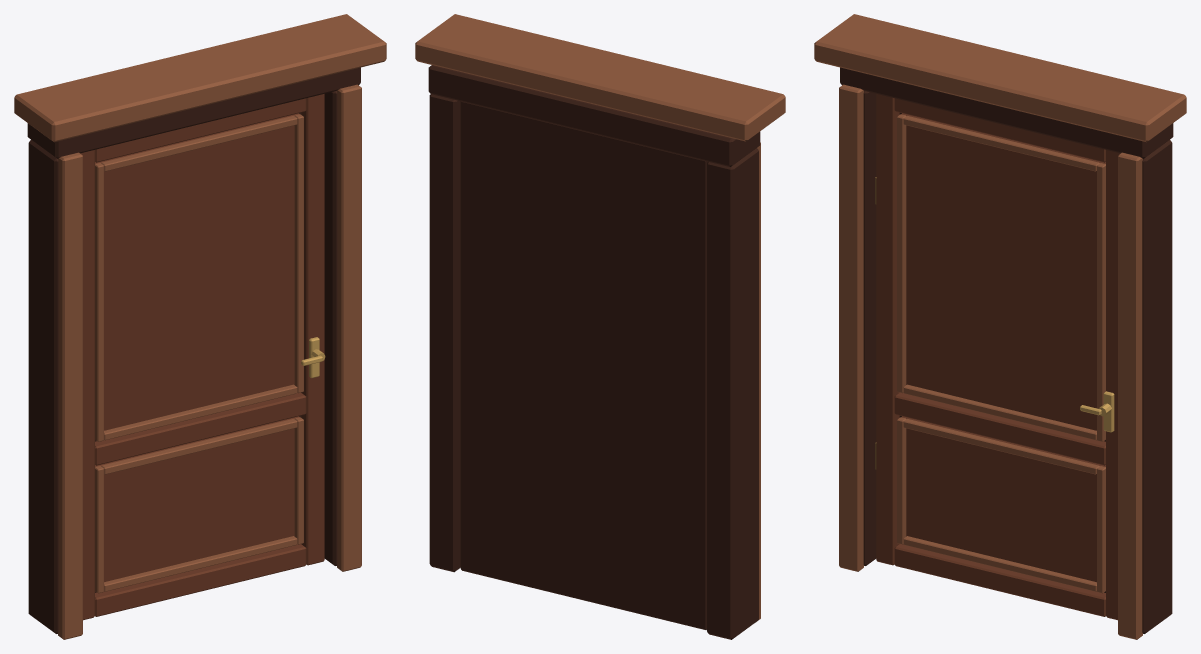
The model's file is door_16.glb.
3 renders of one model, left to right at view 1: azimuth 30°, elevation 25°; view 2: azimuth 150°, elevation 25°; view 3: azimuth 330°, elevation 25°, orthographic.
Visible parts, largest first — view 1: Panel_0_1_Field, Panel_0_0_Field, Cornice, Jamb__1, Jamb_moulding_1, Jamb_moulding__1, Leaf_stile_0_1, Jamb_1, Lintel, Leaf_stile_0__1, Leaf_crossrail_0_0_048, Leaf_crossrail_0_0_795 (+9 smaller); view 2: Leaf_0, Jamb__1, Cornice, Jamb_1, Lintel, Jamb_moulding__1; view 3: Panel_0_1_Field, Panel_0_0_Field, Cornice, Jamb_1, Jamb_moulding_1, Jamb_moulding__1, Leaf_stile_0__1, Jamb__1, Lintel, Leaf_stile_0_1, Leaf_crossrail_0_0_048, Leaf_crossrail_0_0_795 (+9 smaller).
Boxes of the visible parts, x1=… form: Panel_0_1_Field: x1=95, y1=113, x2=299, y2=430; Panel_0_0_Field: x1=95, y1=416, x2=299, y2=582; Cornice: x1=14, y1=14, x2=386, y2=142; Jamb__1: x1=28, y1=140, x2=58, y2=633; Jamb_moulding_1: x1=337, y1=84, x2=361, y2=571; Jamb_moulding__1: x1=58, y1=152, x2=82, y2=639; Leaf_stile_0_1: x1=301, y1=94, x2=324, y2=565; Jamb_1: x1=324, y1=91, x2=337, y2=565; Lintel: x1=27, y1=67, x2=360, y2=158; Leaf_stile_0__1: x1=80, y1=150, x2=94, y2=620; Leaf_crossrail_0_0_048: x1=95, y1=544, x2=306, y2=616; Leaf_crossrail_0_0_795: x1=95, y1=392, x2=306, y2=465; Leaf_0: x1=460, y1=101, x2=707, y2=629; Jamb__1: x1=707, y1=148, x2=758, y2=639; Cornice: x1=415, y1=14, x2=785, y2=141; Jamb_1: x1=429, y1=94, x2=460, y2=572; Lintel: x1=428, y1=65, x2=760, y2=166; Jamb_moulding__1: x1=757, y1=142, x2=760, y2=620; Panel_0_1_Field: x1=901, y1=113, x2=1105, y2=430; Panel_0_0_Field: x1=901, y1=416, x2=1105, y2=582; Cornice: x1=814, y1=14, x2=1186, y2=142; Jamb_1: x1=1142, y1=140, x2=1172, y2=633; Jamb_moulding_1: x1=1118, y1=152, x2=1142, y2=639; Jamb_moulding__1: x1=839, y1=84, x2=863, y2=571; Leaf_stile_0__1: x1=876, y1=94, x2=899, y2=565; Jamb__1: x1=863, y1=91, x2=876, y2=565; Lintel: x1=840, y1=67, x2=1173, y2=158; Leaf_stile_0_1: x1=1106, y1=150, x2=1120, y2=620; Leaf_crossrail_0_0_048: x1=894, y1=544, x2=1105, y2=616; Leaf_crossrail_0_0_795: x1=894, y1=392, x2=1105, y2=465.
Size of the model in its own units: 1.73 by 2.6 by 0.37.
